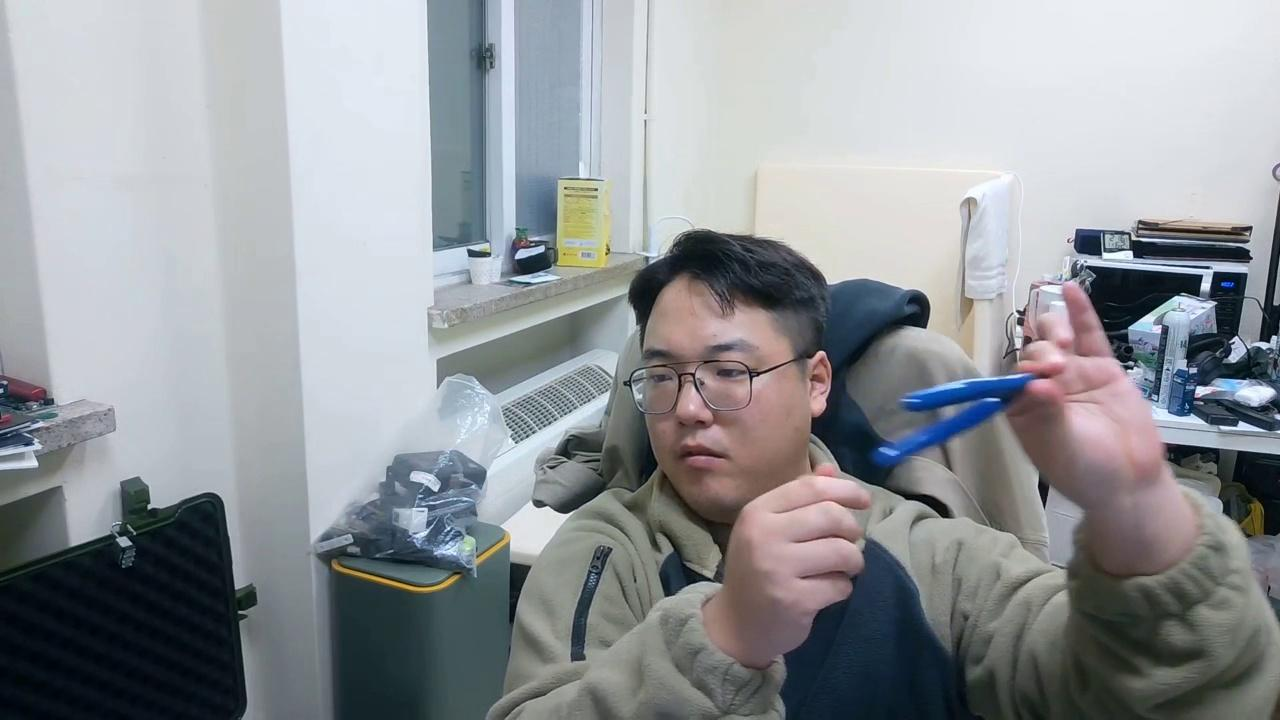blue_pliers: (868, 370, 1041, 471)
